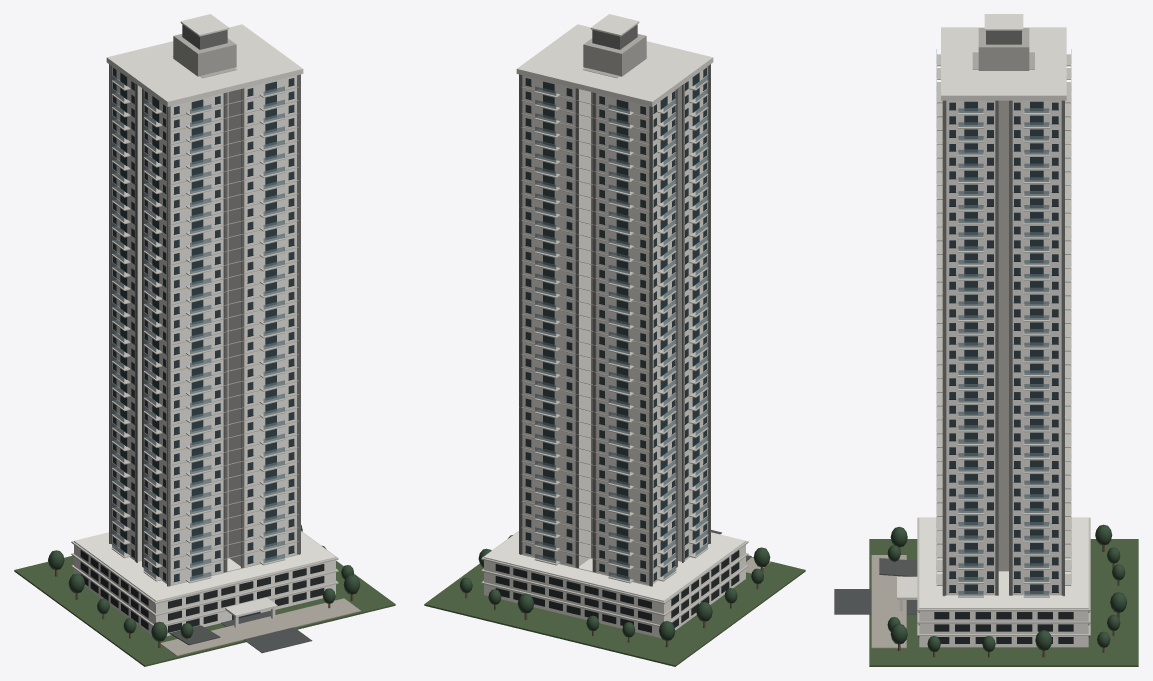
The model's file is grupo15-parque-firenze.glb.
The picture shows the model from 3 angles, left to right: view 1: azimuth 30°, elevation 25°; view 2: azimuth 150°, elevation 25°; view 3: azimuth 270°, elevation 25°; orthographic projection. The views are drawn at different scales.
Parts seen in each view (by area): view 1: Volume_Sudeste, Volume_Sudoeste, Embasamento, Volume_Noroeste, Coroamento, Terreno, Calcada_frontal, Faixa_frontal_-2.06, Faixa_frontal_2.06, Casa_maquinas, Faixa_frontal_-15.56, Faixa_frontal_15.56 (+12 smaller); view 2: Volume_Nordeste, Volume_Noroeste, Terreno, Embasamento, Volume_Sudoeste, Coroamento, Faixa_fundos_-2.06, Faixa_fundos_2.06, Casa_maquinas, Faixa_fundos_-15.56, Faixa_fundos_15.56, Faixa_lateral_oeste_1.39 (+9 smaller); view 3: Volume_Nordeste, Volume_Sudeste, Terreno, Embasamento, Coroamento, Nucleo_central, Faixa_lateral_leste_11.91, Calcada_frontal, Faixa_lateral_leste_-1.39, Faixa_lateral_leste_1.39, Faixa_lateral_leste_-11.91, Casa_maquinas (+9 smaller).
Part boxes in pixels (left/top/right/bottom): Volume_Sudeste: left=229, top=75, right=297, bottom=567; Volume_Sudoeste: left=144, top=90, right=223, bottom=584; Embasamento: left=74, top=531, right=335, bottom=636; Volume_Noroeste: left=112, top=67, right=141, bottom=561; Coroamento: left=106, top=24, right=303, bottom=106; Terreno: left=14, top=555, right=395, bottom=666; Calcada_frontal: left=160, top=598, right=360, bottom=656; Faixa_frontal_-2.06: left=223, top=92, right=227, bottom=572; Faixa_frontal_2.06: left=241, top=88, right=244, bottom=568; Casa_maquinas: left=173, top=34, right=236, bottom=76; Faixa_frontal_-15.56: left=167, top=106, right=170, bottom=586; Faixa_frontal_15.56: left=297, top=74, right=300, bottom=554; Volume_Nordeste: left=522, top=75, right=590, bottom=567; Volume_Noroeste: left=596, top=90, right=675, bottom=584; Terreno: left=424, top=557, right=805, bottom=666; Embasamento: left=484, top=531, right=745, bottom=638; Volume_Sudoeste: left=678, top=67, right=707, bottom=561; Coroamento: left=516, top=24, right=713, bottom=106; Faixa_fundos_-2.06: left=592, top=92, right=596, bottom=572; Faixa_fundos_2.06: left=575, top=88, right=578, bottom=568; Casa_maquinas: left=583, top=34, right=646, bottom=76; Faixa_fundos_-15.56: left=649, top=106, right=652, bottom=586; Faixa_fundos_15.56: left=519, top=74, right=522, bottom=554; Faixa_lateral_oeste_1.39: left=682, top=83, right=684, bottom=562; Volume_Nordeste: left=1012, top=100, right=1061, bottom=595; Volume_Sudeste: left=946, top=100, right=995, bottom=595; Terreno: left=869, top=539, right=1138, bottom=666; Embasamento: left=919, top=517, right=1088, bottom=647; Coroamento: left=941, top=27, right=1066, bottom=100; Nucleo_central: left=972, top=52, right=1034, bottom=571; Faixa_lateral_leste_11.91: left=942, top=100, right=946, bottom=595; Calcada_frontal: left=871, top=555, right=906, bottom=648; Faixa_lateral_leste_-1.39: left=1009, top=100, right=1012, bottom=595; Faixa_lateral_leste_1.39: left=995, top=100, right=998, bottom=595; Faixa_lateral_leste_-11.91: left=1061, top=100, right=1064, bottom=595; Casa_maquinas: left=978, top=28, right=1029, bottom=70.
Size of the model in its own units: 60 by 129 by 61.
